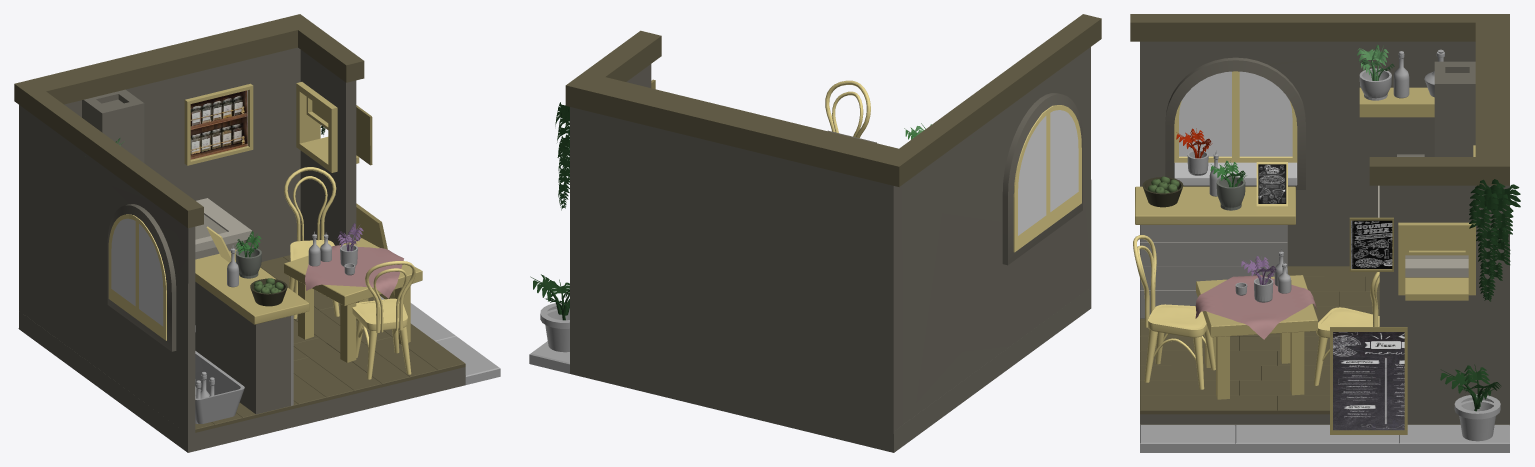
Rendered from Pizza Resturant.fbx.
The picture shows the model from 3 angles, left to right: view 1: azimuth 30°, elevation 25°; view 2: azimuth 150°, elevation 25°; view 3: azimuth 270°, elevation 25°; orthographic projection. The views are drawn at different scales.
Visible parts, largest first — view 1: Walls, OvenWallTop, CounterBase, pCube1 (×6), KitchenWallTop, WindowDoors, SpiceRack, CounterTop, OvenExhaust, OBJ2:TableCloth_ObjectTable, WindowFrame, StreetWallTop (+19 smaller); view 2: Walls, OvenWallTop, KitchenWallTop, WindowDoors, WindowFrame, StreetWallTop, PlantPot, pCube16, OuterBack; view 3: Walls, KitchenWallTop, WindowDoors, SignBig, pCube1 (×5), pCube2 (×7), OvenWallTop, CounterTop, StreetWallTop, OvenExhaust, pCube17, OBJ2:TableCloth_ObjectTable (+30 smaller).
Part boxes in pixels (bbox=[...]): Walls: bbox=[18, 47, 465, 452]; OvenWallTop: bbox=[30, 18, 297, 104]; CounterBase: bbox=[195, 282, 290, 414]; pCube1 (×6): bbox=[293, 323, 465, 407]; KitchenWallTop: bbox=[14, 80, 203, 228]; WindowDoors: bbox=[108, 214, 166, 340]; SpiceRack: bbox=[184, 83, 253, 165]; CounterTop: bbox=[195, 249, 309, 324]; OvenExhaust: bbox=[82, 89, 144, 162]; OBJ2:TableCloth_ObjectTable: bbox=[305, 245, 403, 298]; WindowFrame: bbox=[107, 204, 176, 351]; StreetWallTop: bbox=[282, 14, 364, 82]; Walls: bbox=[570, 47, 1091, 452]; OvenWallTop: bbox=[586, 77, 898, 182]; KitchenWallTop: bbox=[880, 14, 1101, 186]; WindowDoors: bbox=[1013, 105, 1081, 252]; WindowFrame: bbox=[1002, 93, 1082, 265]; StreetWallTop: bbox=[565, 30, 661, 110]; PlantPot: bbox=[540, 302, 569, 352]; pCube16: bbox=[529, 341, 569, 373]; OuterBack: bbox=[825, 80, 870, 138]; Walls: bbox=[1140, 41, 1509, 425]; KitchenWallTop: bbox=[1130, 14, 1509, 41]; WindowDoors: bbox=[1174, 71, 1297, 162]; SignBig: bbox=[1330, 327, 1407, 434]; pCube1 (×5): bbox=[1140, 336, 1277, 414]; pCube2 (×7): bbox=[1239, 266, 1376, 414]; OvenWallTop: bbox=[1475, 22, 1509, 156]; CounterTop: bbox=[1135, 186, 1295, 224]; StreetWallTop: bbox=[1369, 157, 1509, 185]; OvenExhaust: bbox=[1434, 61, 1475, 156]; pCube17: bbox=[1235, 425, 1398, 452]; OBJ2:TableCloth_ObjectTable: bbox=[1195, 275, 1316, 339].
Size of the model in its own units: 9.41 by 6.74 by 8.85.
Materials: 42 (4 with a texture image).
